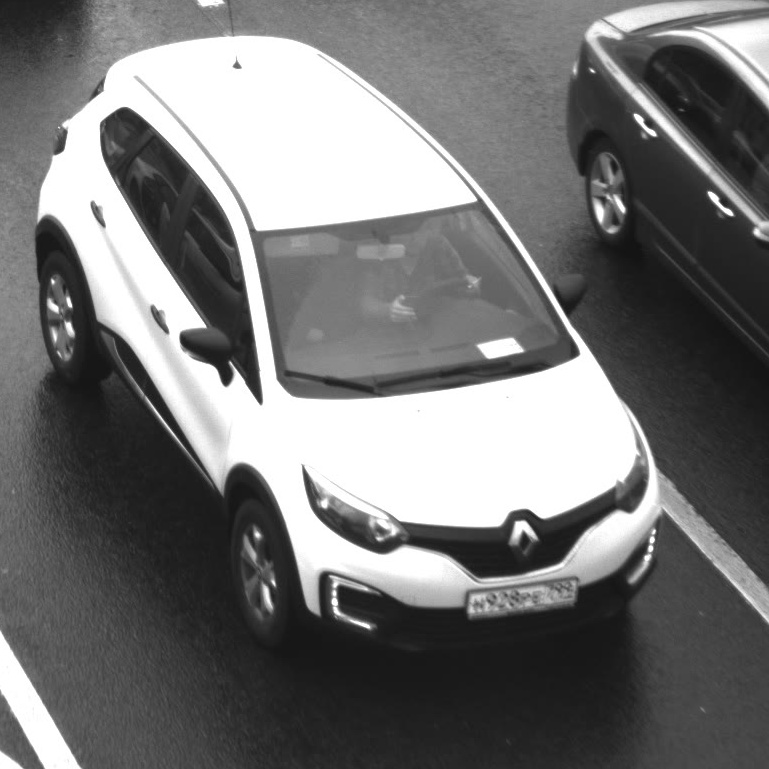plate: (456, 568, 587, 623)
